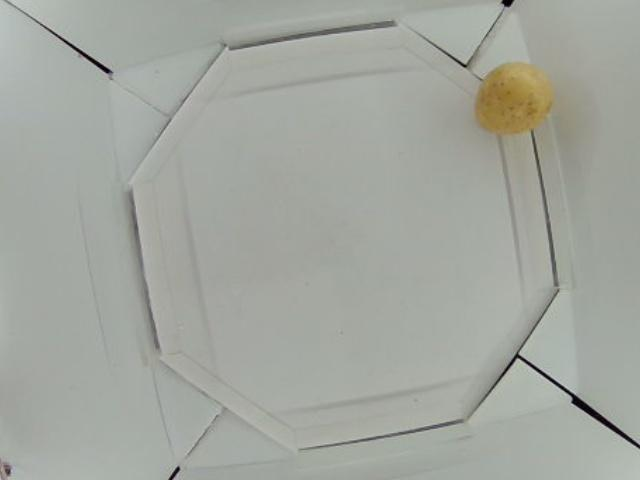Potato: (476, 59, 557, 133)
